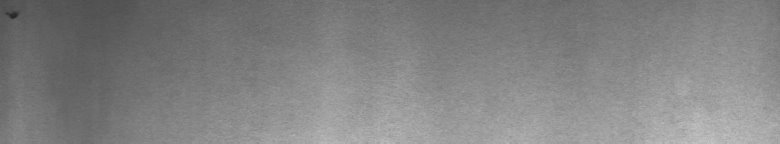fi: (4, 4, 23, 24)
